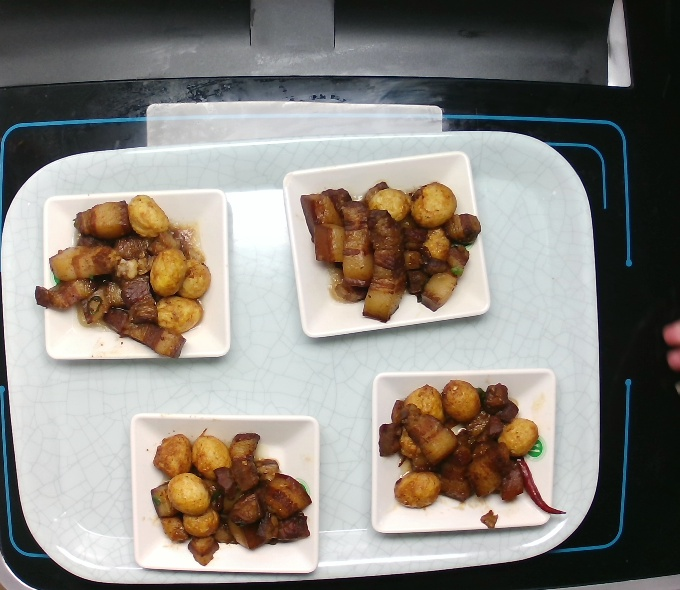wcq-HongShaoRouChaoAnChunDan: (289, 164, 491, 328), (27, 195, 220, 366), (358, 376, 569, 526), (139, 419, 322, 564)
